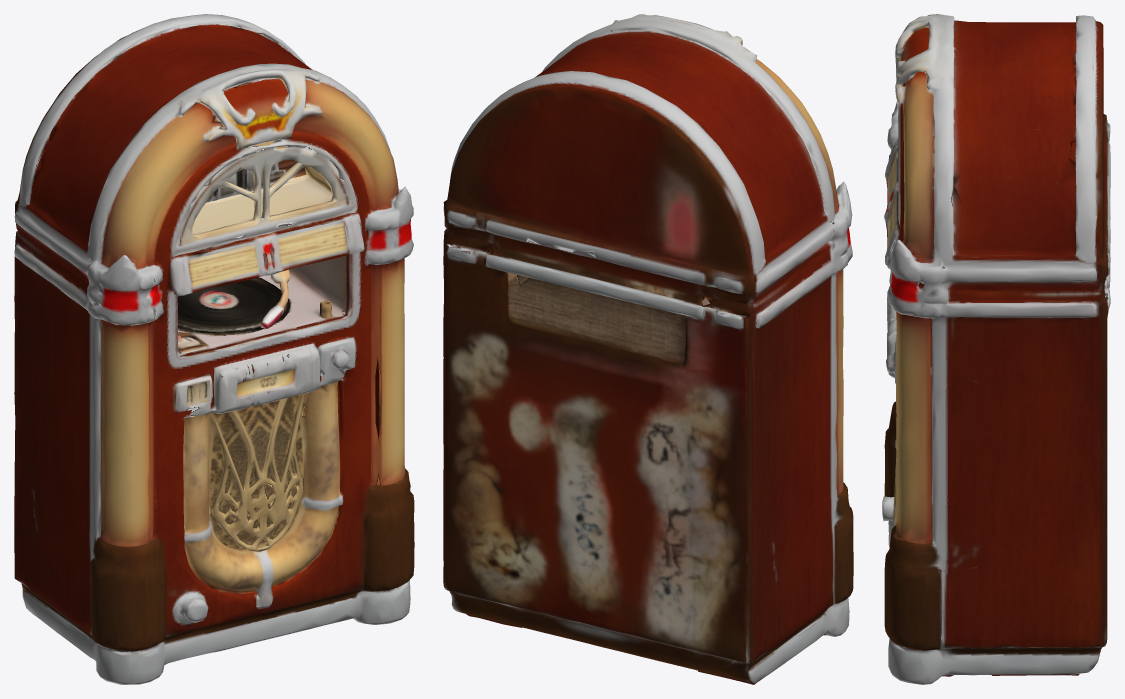
The model's file is int_jukebox.glb.
3 views of the same model, side by side, from view 1: azimuth 30°, elevation 25°; view 2: azimuth 150°, elevation 25°; view 3: azimuth 270°, elevation 25° (orthographic). The views are drawn at different scales.
Parts seen in each view (by area): view 1: world; view 2: world; view 3: world.
Boxes of the visible parts, bbox=[...] form: world: bbox=[14, 14, 414, 684]; world: bbox=[443, 14, 853, 684]; world: bbox=[882, 14, 1110, 684].
Bounding box in the file's own units: 0.5862 × 0.9984 × 0.3576.
Materials: 1 (1 with a texture image).
